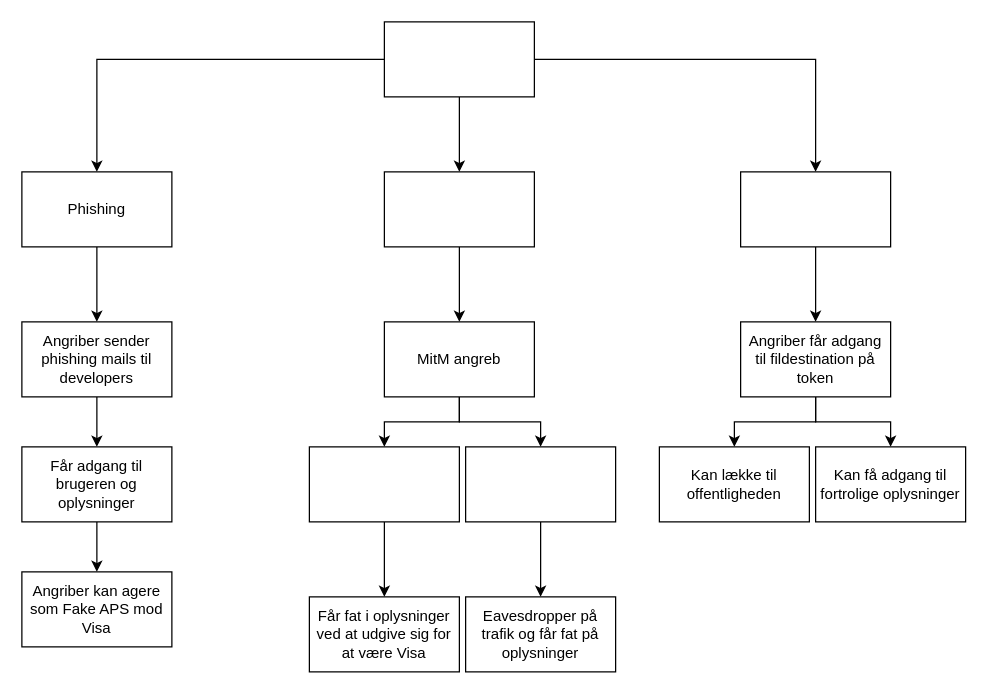
Image size: 988x694. Some labels were removed from this diagram. Each missing label, with the box of its shape:
API-Tokens: (383, 21, 534, 97)
DNS Spoofing: (308, 446, 459, 522)
Network-Based: (383, 171, 534, 247)
Packet Sniffing: (464, 446, 616, 522)
Token Leak: (739, 171, 891, 247)
